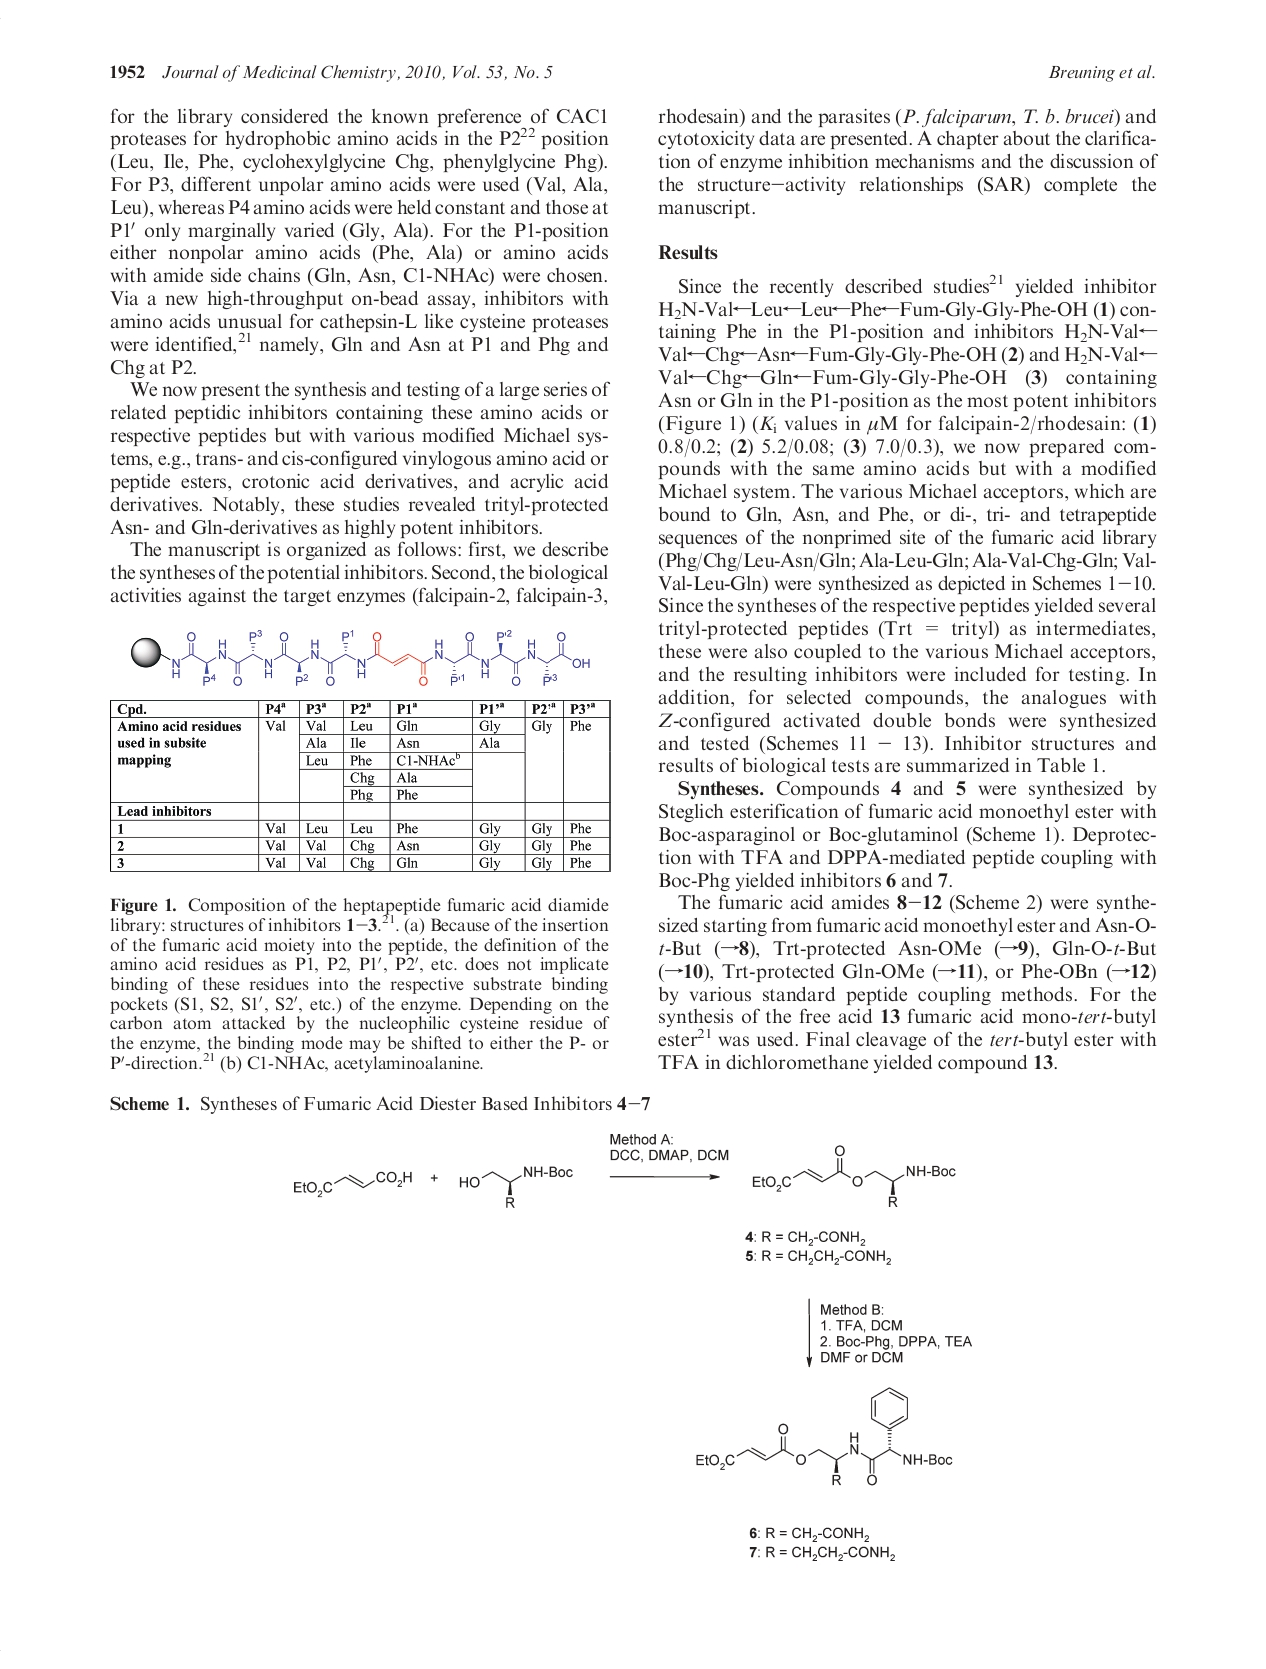exist_molecular: (128, 626, 597, 690), (694, 1388, 951, 1488), (750, 1142, 960, 1210), (457, 1164, 578, 1208), (291, 1168, 418, 1200)
